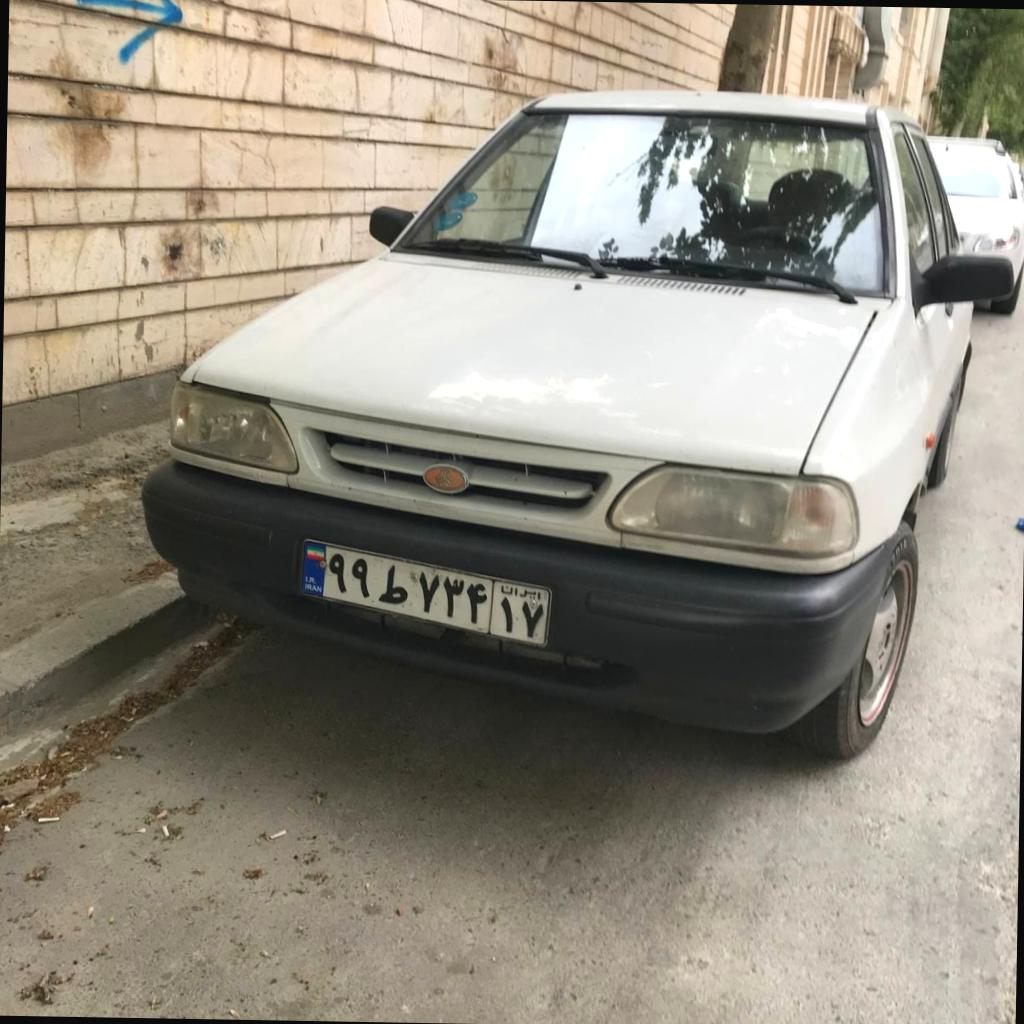Plates: (302, 541, 548, 644)
